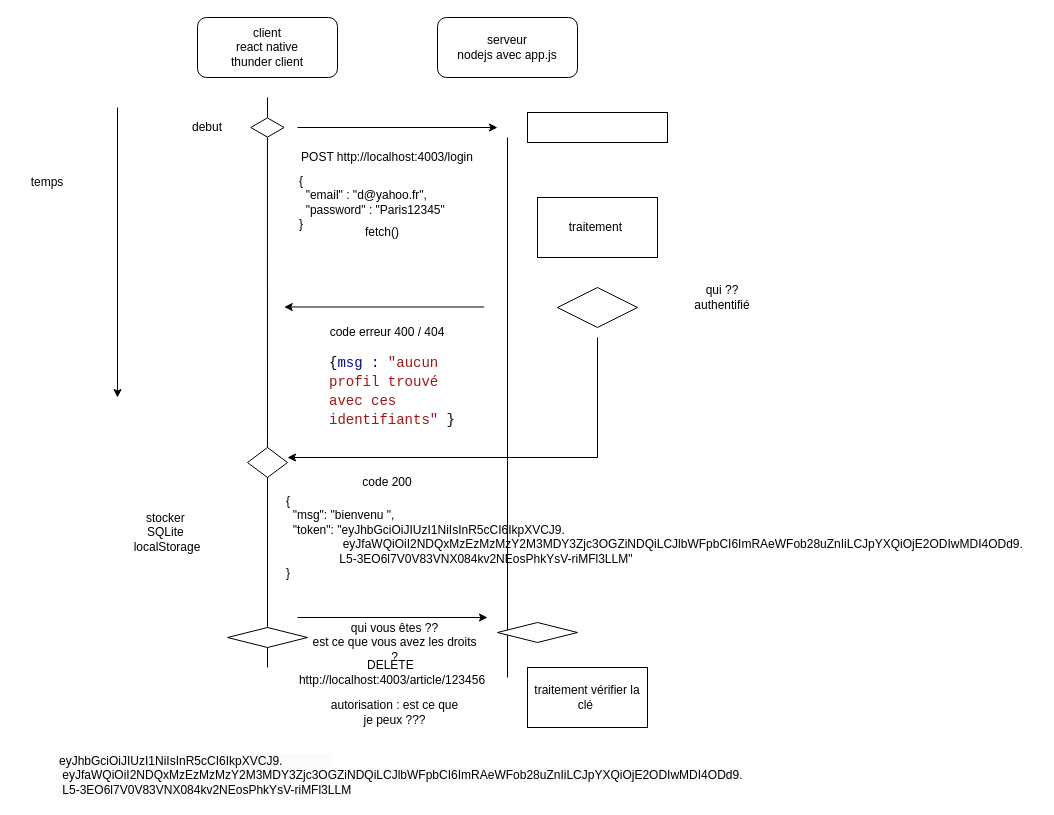
The diagram is 1054 pixels wide and 815 high, and some of its shapes have lost their labels. The centre of each missing label's shape, as x and y in pixels:
"route-connnexion.js" goes at (597,127).
"si erreur" goes at (597,307).
